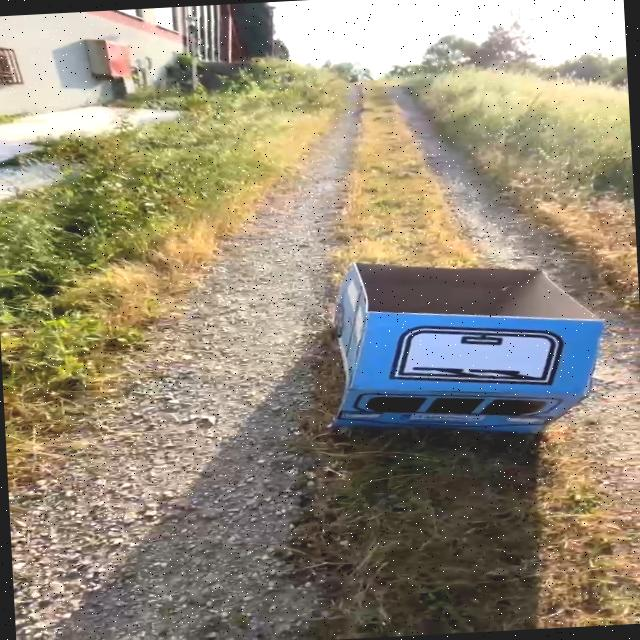blue_car: (281, 234, 640, 490)
